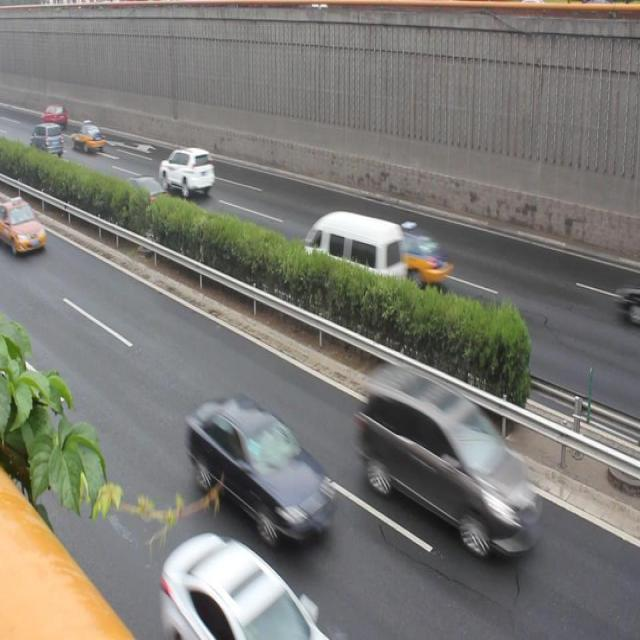car: (186, 395, 341, 545), (157, 533, 330, 640), (388, 213, 453, 290), (157, 146, 216, 198), (120, 170, 170, 220)
truck: (353, 369, 543, 559), (306, 210, 406, 298)
